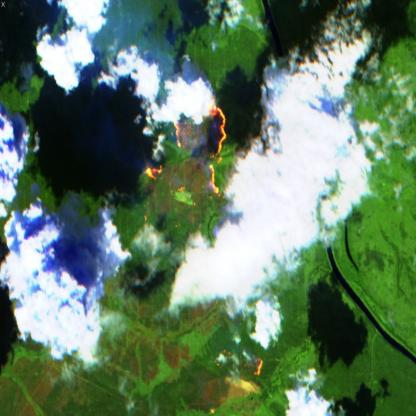fire: (136, 82, 237, 219), (213, 350, 266, 383)
